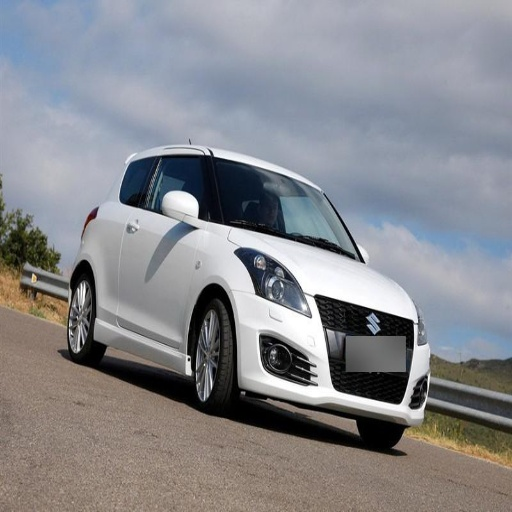front_bumper: (235, 292, 429, 421)
front_right_door: (119, 172, 192, 348)
front_right_light: (236, 252, 312, 316)
